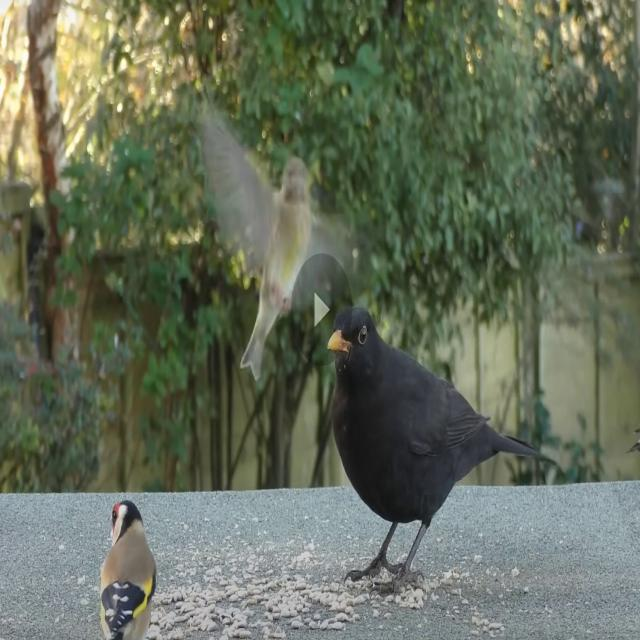beak: (324, 327, 350, 361)
bird: (322, 294, 539, 604), (192, 91, 352, 385), (93, 496, 157, 640)
